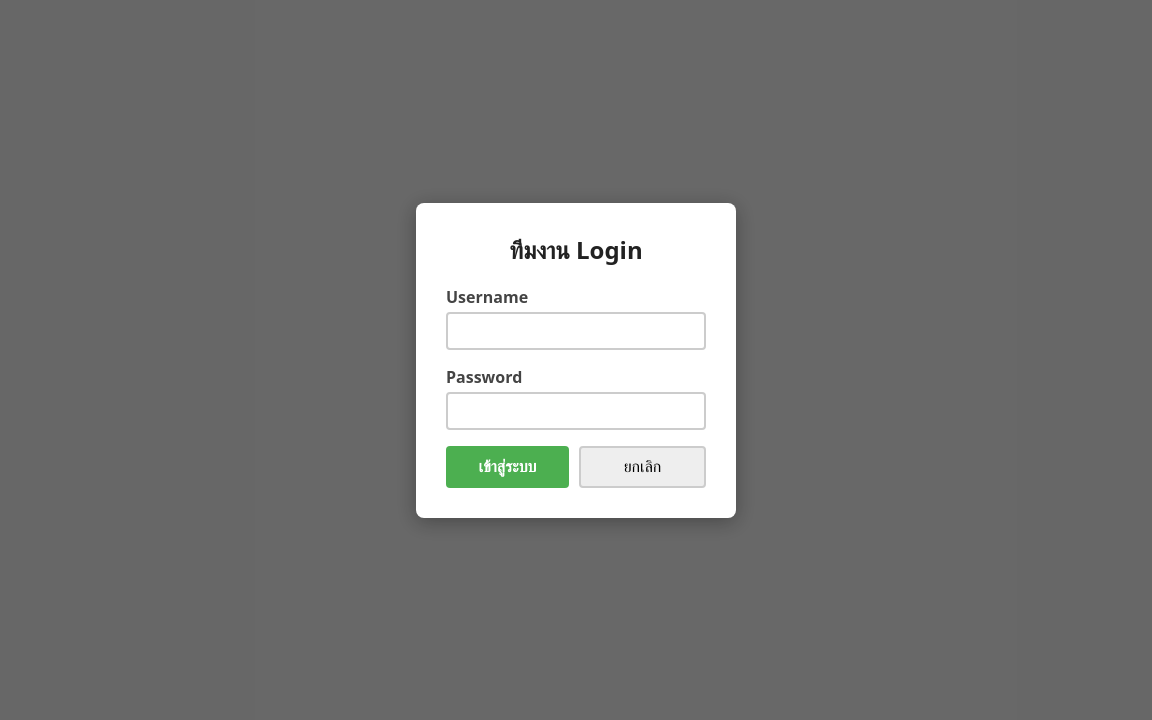
Scenario: LoginModal › network error shows connection error
The image size is (1152, 720).
In the field: (576, 330) [446, 312, 706, 350], type "user"
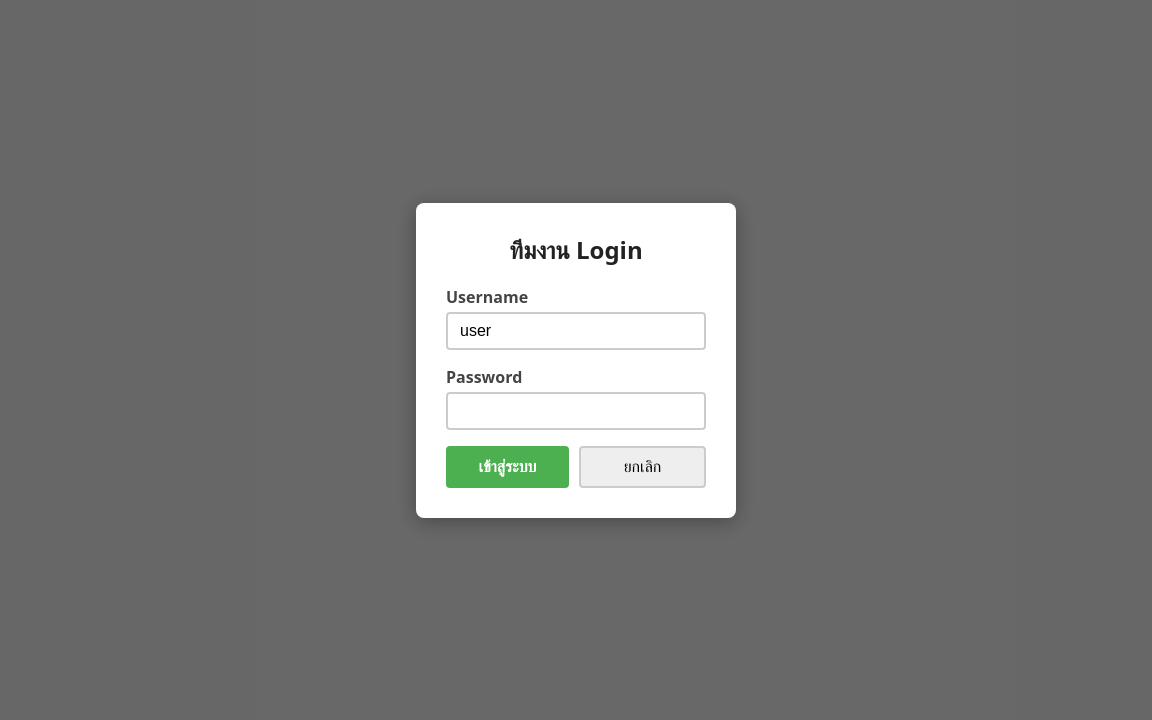
In the password field: (576, 410) [446, 392, 706, 430], type "pass"
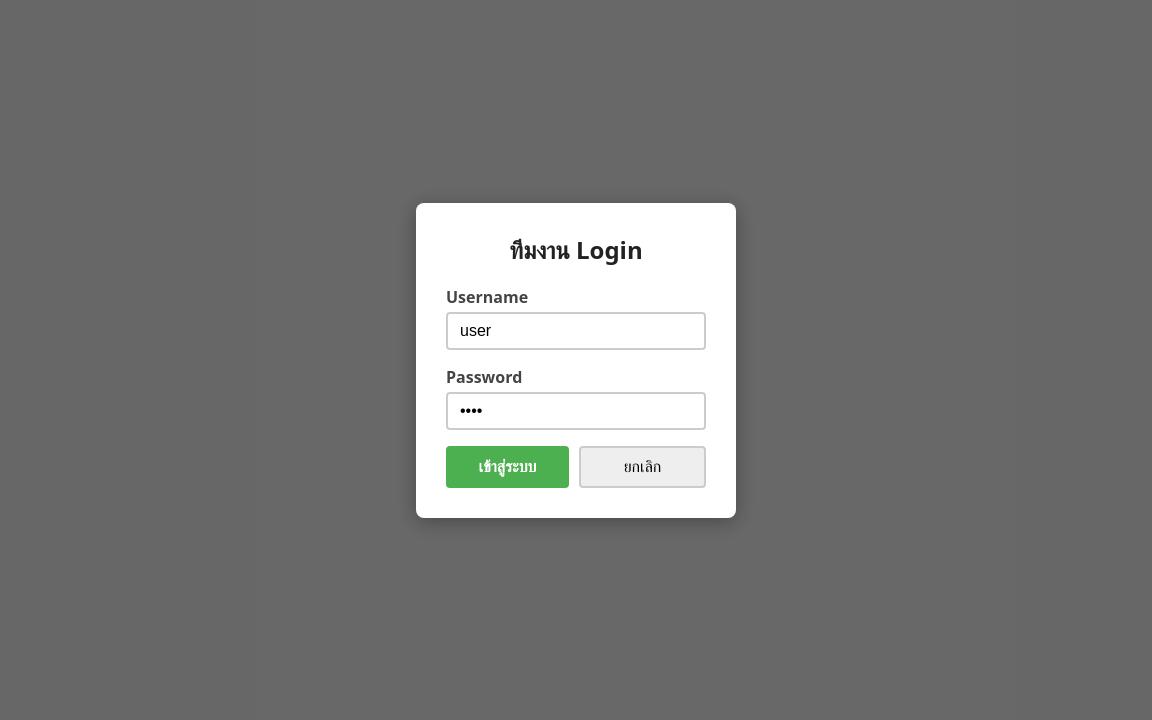
Click the button "เข้าสู่ระบบ": (508, 466) [446, 446, 569, 488]
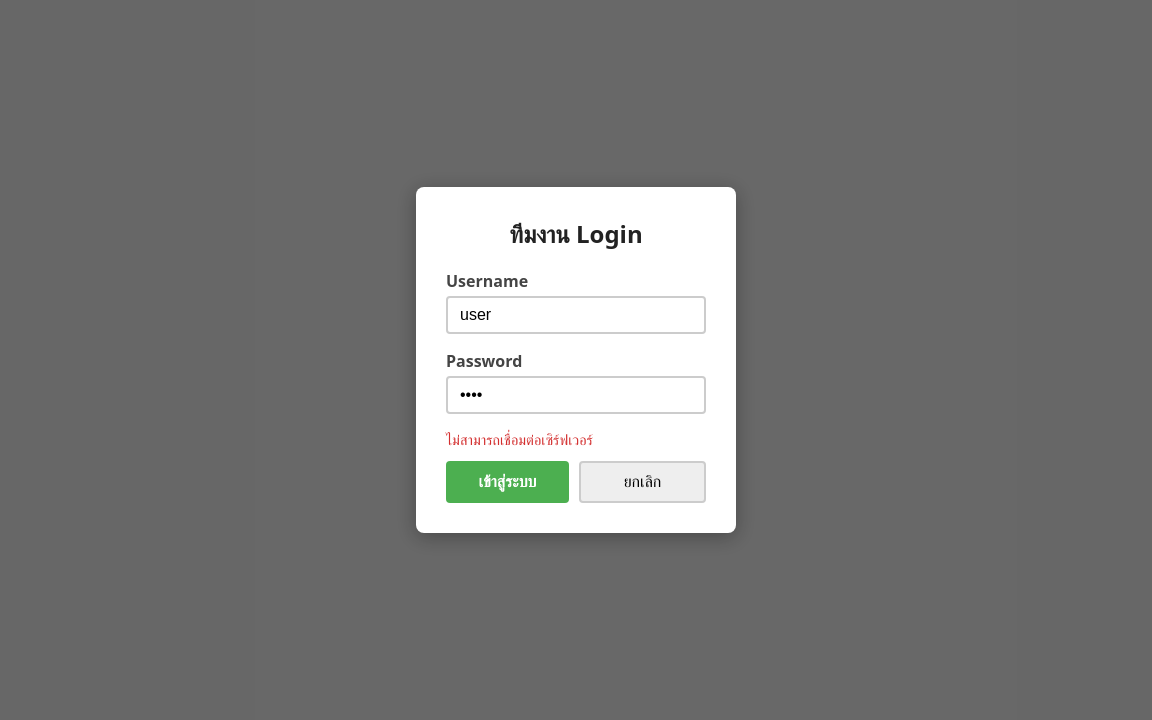
expect the text "ไม่สามารถเชื่อมต่อเซิร์ฟเวอร์" is shown: met, box [446, 430, 593, 449]
